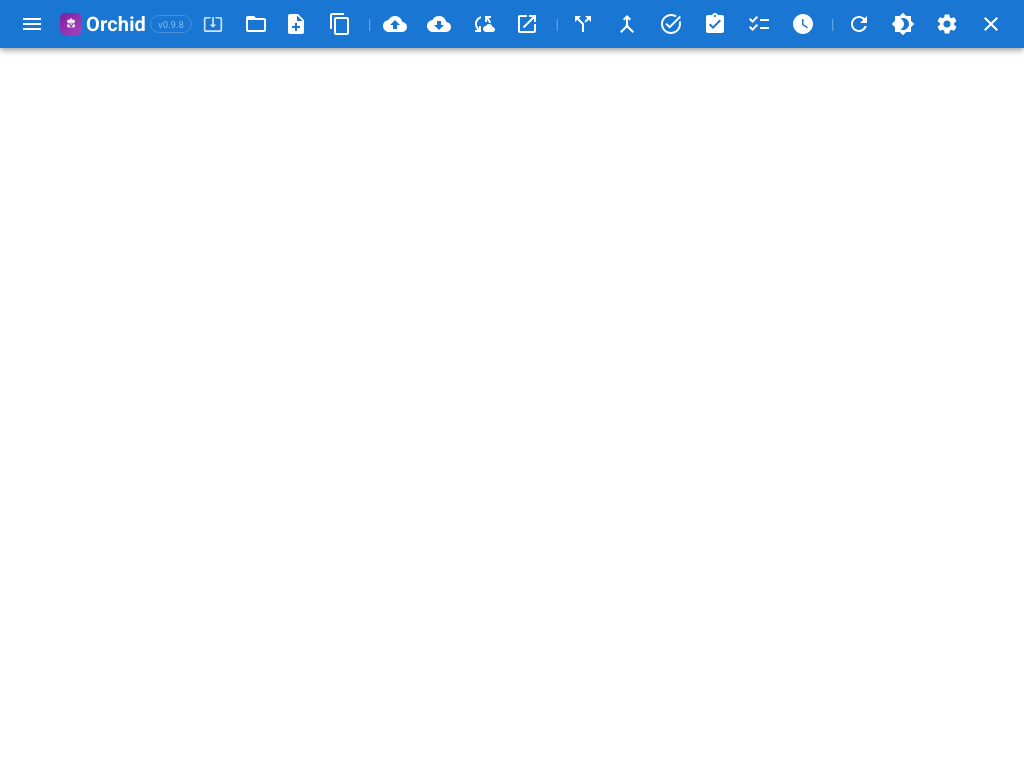
Test: shows confirm modal on Push click
The image size is (1024, 768).
Click the button named "Push" at (396, 24), box [376, 4, 416, 44]
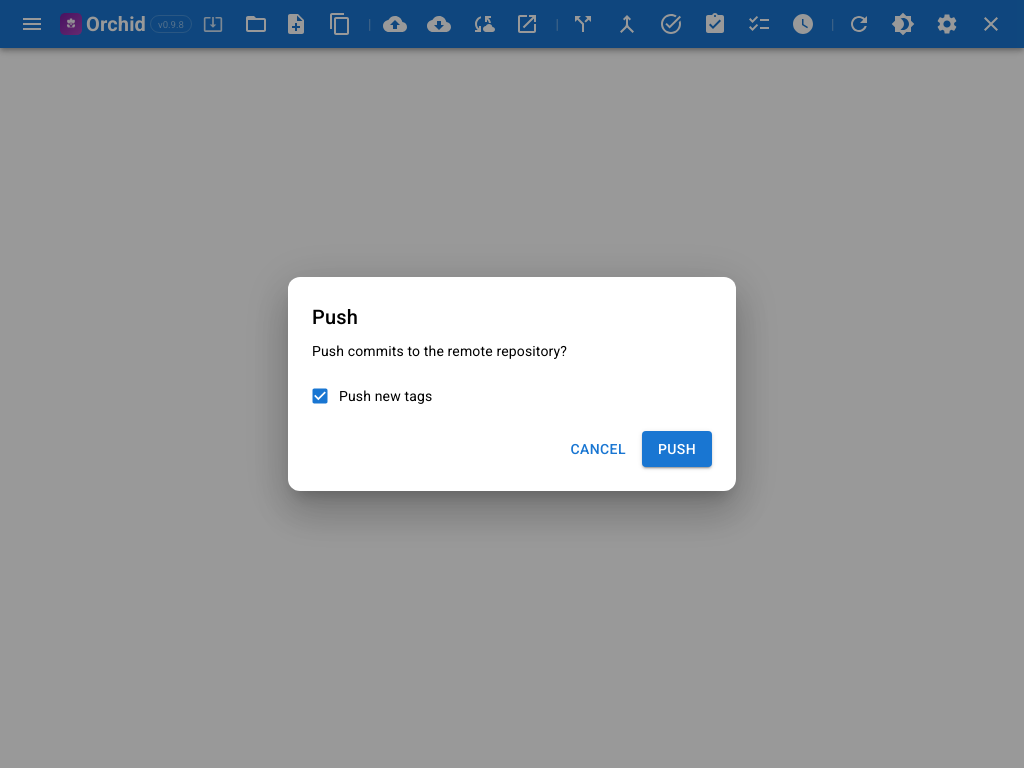
Expected: the text "Push commits to the remote repository?" is shown, [312, 343, 567, 359]
